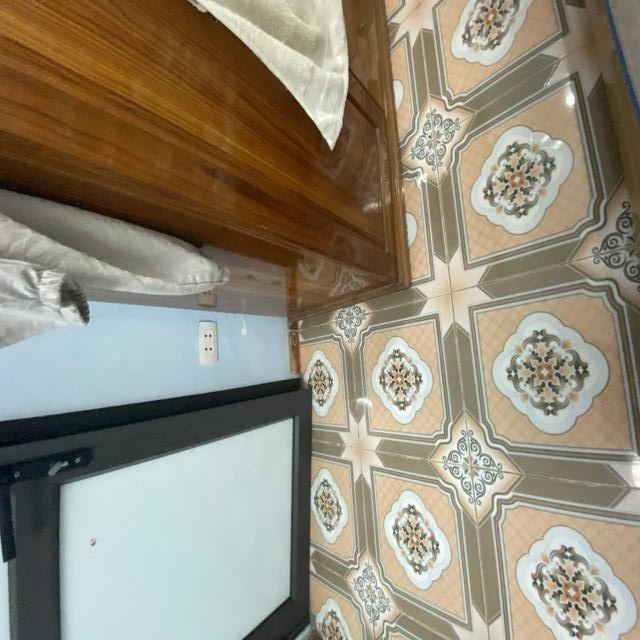outlet: (198, 321, 218, 365)
